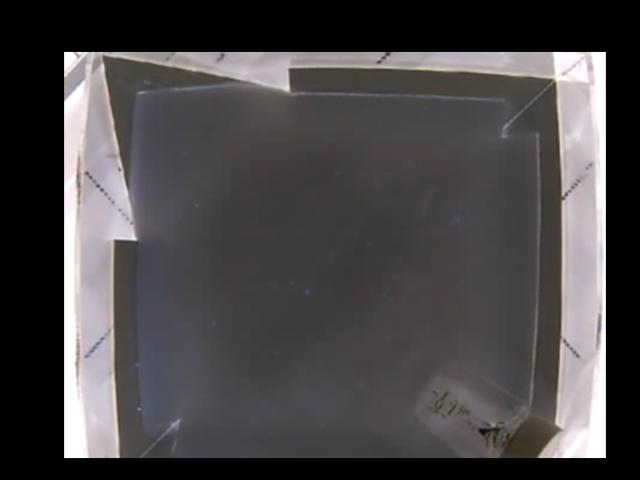Bottle: (415, 359, 563, 458)
